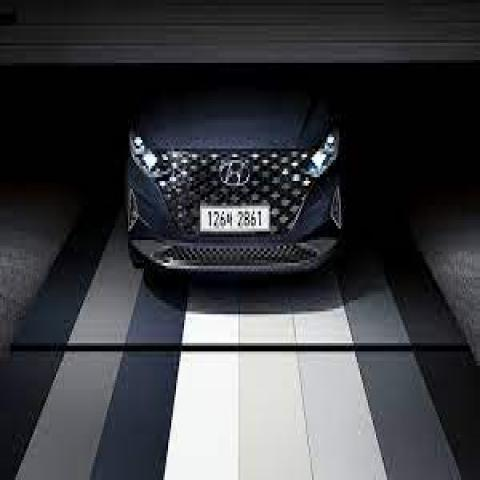LP: (198, 199, 271, 239)
